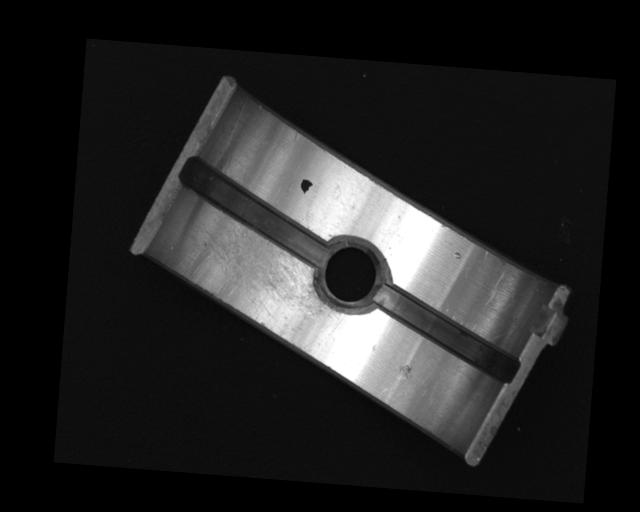blot: (299, 177, 313, 195)
bruise: (397, 362, 413, 381), (452, 251, 463, 260)
gap: (173, 156, 333, 267), (367, 284, 525, 384)
hole: (313, 233, 388, 317)
nick: (485, 262, 513, 308)
scratch: (193, 214, 347, 353)
